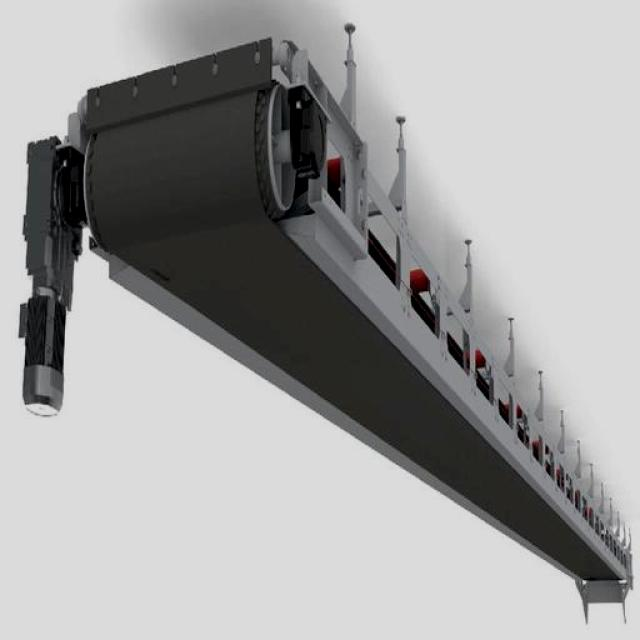conveyor: (86, 84, 624, 586)
